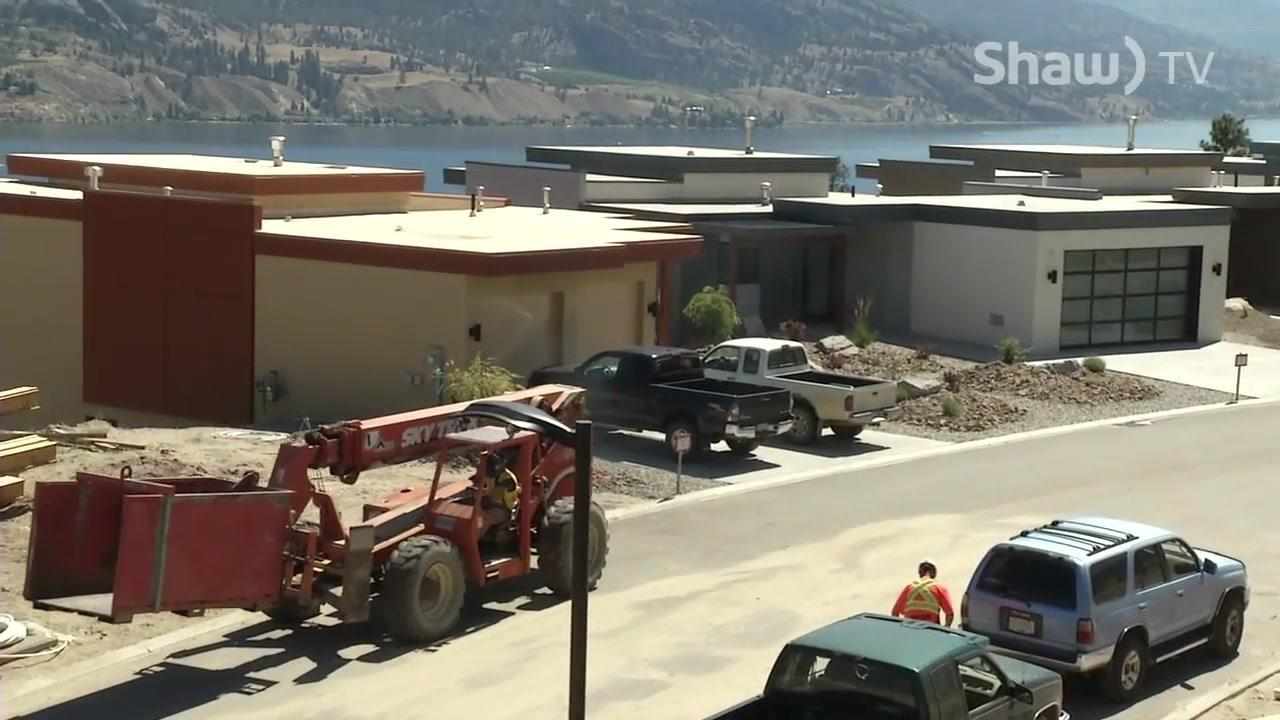vest: (902, 577, 945, 625)
